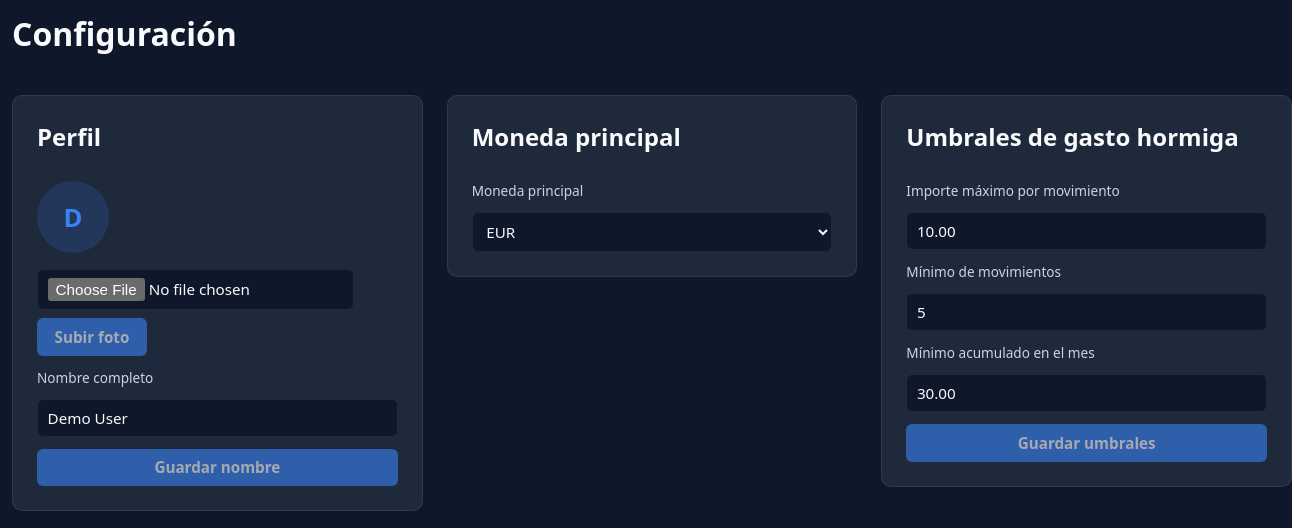
Test case: PreferencesPage › pide confirmación con el aviso antes de aplicar el cambio de moneda
The width and height of the screenshot is (1292, 528).
Select "USD" in the dropdown labelled "Moneda principal" at (652, 232), box 472,212 -> 832,252
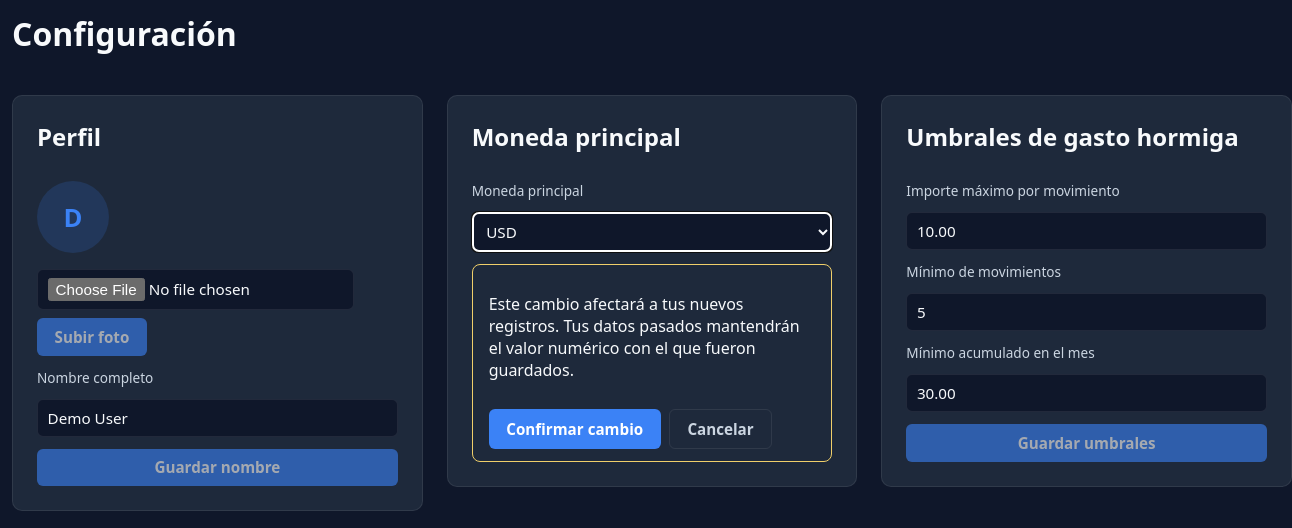
Expected: the message shows "Este cambio afectará a tus nuevos registros. Tus datos pasados mantendrán el valor numérico con el que fueron guardados.", 489,293 -> 800,381
